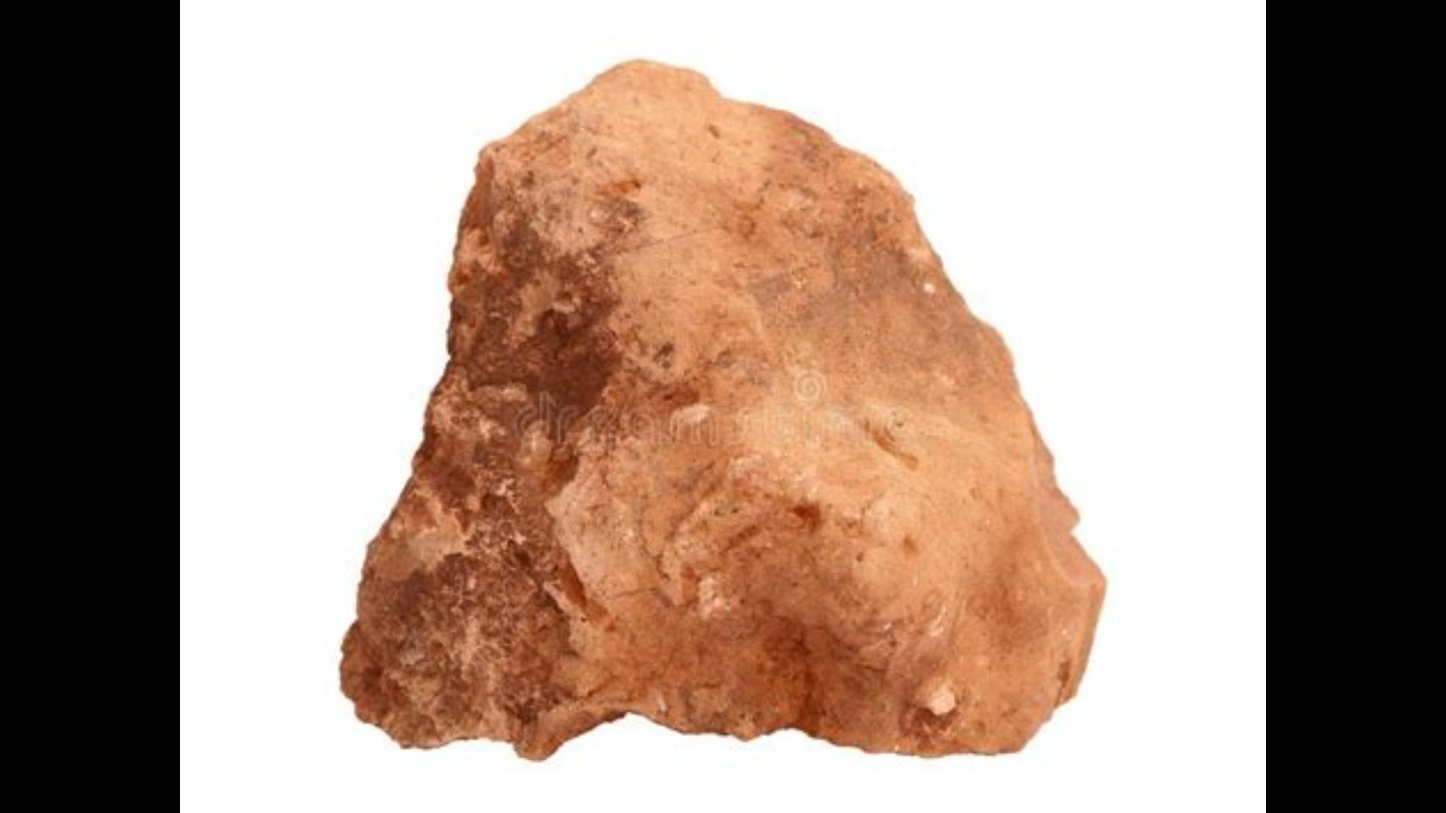rock: (343, 62, 1101, 753)
